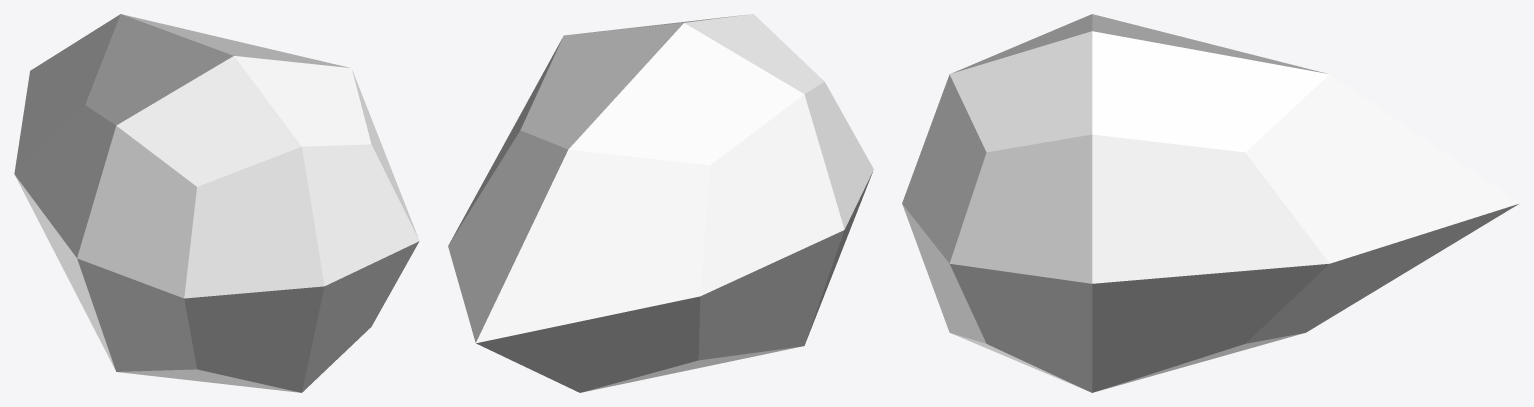
Rendered from fire.obj.
The picture shows the model from 3 angles, left to right: view 1: azimuth 30°, elevation 25°; view 2: azimuth 150°, elevation 25°; view 3: azimuth 270°, elevation 25°; orthographic projection. The views are drawn at different scales.
Parts seen in each view (by area): view 1: cuboid; view 2: cuboid; view 3: cuboid.
Part boxes in pixels (<box>): cuboid: <box>14,14,419,392</box>; cuboid: <box>448,14,873,392</box>; cuboid: <box>902,14,1519,392</box>.
Bounding box in the file's own units: 1 × 1 × 1.62.
1 material, 1 textured.
